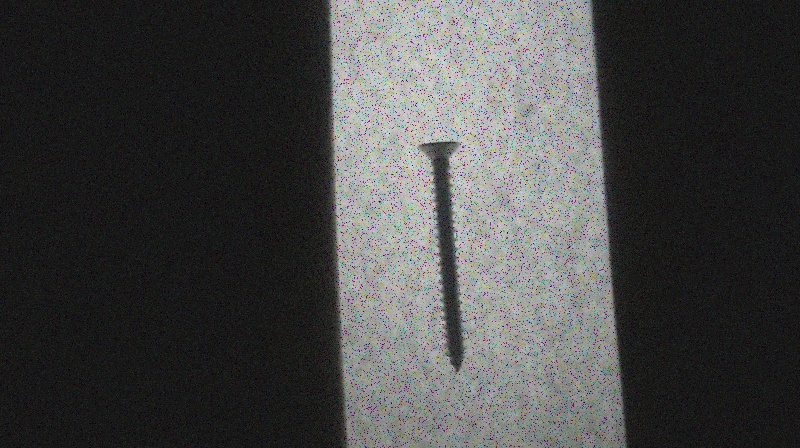S002: (413, 136, 469, 376)
